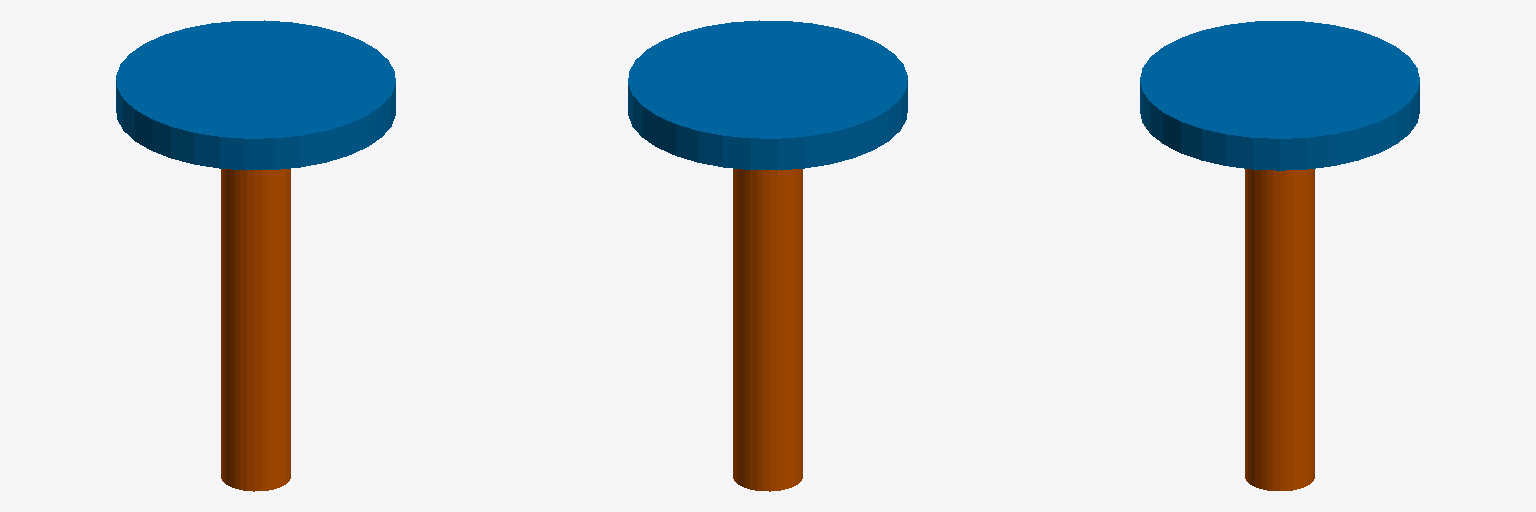
URDF robot description (sketch_follower_2d_2dof):
<?xml version="1.0" ?>
<!-- =================================================================================== -->
<!-- |    This document was autogenerated by xacro from [local-path]/catkin_ws/src/sketch-follower_ros/sketch_follower_moveit/robot_description/urdf/2d_2dof.xacro | -->
<!-- |    EDITING THIS FILE BY HAND IS NOT RECOMMENDED                                 | -->
<!-- =================================================================================== -->
<robot name="sketch_follower_2d_2dof">
    <material name="blue">
        <color rgba="0 0.5 1 1" />
    </material>
    <material name="green">
        <color rgba="0 1 0.5 1" />
    </material>
    <material name="red">
        <color rgba="1 0.5 0.5 1" />
    </material>
    <material name="purple">
        <color rgba="0.8 0 1 1" />
    </material>
    <gazebo>
        <plugin filename="libgazebo_ros_control.so" name="gazebo_ros_control">
            <robotNamespace>/</robotNamespace>
        </plugin>
    </gazebo>
    <link name="world" />
    <link name="base_link">
        <inertial>
            <origin rpy="0.0 0.0 0.0" xyz="0 0 0.4" />
            <mass value="1.2" />
            <inertia ixx="0.12025" ixy="0.0" ixz="0.0" iyy="0.12025" iyz="0.0" izz="0.11249999999999999" />
        </inertial>
        <visual>
            <origin rpy="0 0.0 0.0" xyz="0.0 0.0 0.0" />
            <geometry>
                <mesh filename="package://sketch_follower/robot_description/meshes/base_link.stl" scale="0.005 0.005 0.005" />
            </geometry>
            <material name="blue" />
        </visual>
        <collision>
            <origin rpy="0.0 0.0 0.0" xyz="0.0 0.0 0.0" />
            <geometry>
                <mesh filename="package://sketch_follower/robot_description/meshes/base_link.stl" scale="0.005 0.005 0.005" />
            </geometry>
        </collision>
    </link>
    <gazebo reference="base_link">
        <material>Gazebo/White</material>
    </gazebo>
    <joint name="base_joint" type="fixed">
        <origin rpy="0.0 0.0 0.0" xyz="0.0 0.0 0" />
        <parent link="world" />
        <child link="base_link" />
    </joint>
    <link name="link_0">
        <inertial>
            <origin rpy="0.0 0.0 0.0" xyz="0 0.75 0.05" />
            <mass value="0.3" />
            <inertia ixx="0.10024999999999999" ixy="0.0" ixz="0.0" iyy="0.0065" iyz="0.0" izz="0.10625" />
        </inertial>
        <visual>
            <origin rpy="0.0 0.0 0.0" xyz="0 0.0 0.0" />
            <geometry>
                <mesh filename="package://sketch_follower/robot_description/meshes/link.stl" scale="0.005 0.005 0.005" />
            </geometry>
            <material name="green" />
        </visual>
        <collision>
            <origin rpy="0.0 0.0 0.0" xyz="0.0 0.0 0.0" />
            <geometry>
                <mesh filename="package://sketch_follower/robot_description/meshes/link.stl" scale="0.005 0.005 0.005" />
            </geometry>
        </collision>
    </link>
    <gazebo reference="link_0">
        <material>Gazebo/Black</material>
    </gazebo>
    <joint name="link_0_joint" type="continuous">
        <origin rpy="0.0 0.0 0.0" xyz="0 0.0 0.55" />
        <parent link="base_link" />
        <child link="link_0" />
        <axis xyz="0.0 0.0 1.0" />
        <dynamics damping="2.0" friction="2.0" />
    </joint>
    <transmission name="link_0_joint_transmission">
        <type>transmission_interface/SimpleTransmission</type>
        <joint name="link_0_joint">
            <hardwareInterface>hardware_interface/EffortJointInterface</hardwareInterface>
        </joint>
        <actuator name="link_0_joint_actuator">
            <hardwareInterface>hardware_interface/EffortJointInterface</hardwareInterface>
            <mechanicalReduction>1</mechanicalReduction>
        </actuator>
    </transmission>
    <link name="link_1">
        <inertial>
            <origin rpy="0.0 0.0 0.0" xyz="0 0.75 0.05" />
            <mass value="0.3" />
            <inertia ixx="0.10024999999999999" ixy="0.0" ixz="0.0" iyy="0.0065" iyz="0.0" izz="0.10625" />
        </inertial>
        <visual>
            <origin rpy="0.0 0.0 0.0" xyz="0 0.0 0.0" />
            <geometry>
                <mesh filename="package://sketch_follower/robot_description/meshes/link.stl" scale="0.005 0.005 0.005" />
            </geometry>
            <material name="red" />
        </visual>
        <collision>
            <origin rpy="0.0 0.0 0.0" xyz="0.0 0.0 0.0" />
            <geometry>
                <mesh filename="package://sketch_follower/robot_description/meshes/link.stl" scale="0.005 0.005 0.005" />
            </geometry>
        </collision>
    </link>
    <gazebo reference="link_1">
        <material>Gazebo/White</material>
    </gazebo>
    <joint name="link_1_joint" type="continuous">
        <origin rpy="0.0 0.0 0.0" xyz="0 1.51 0.1" />
        <parent link="link_0" />
        <child link="link_1" />
        <axis xyz="0.0 0.0 1.0" />
        <dynamics damping="2.0" friction="2.0" />
    </joint>
    <transmission name="link_1_joint_transmission">
        <type>transmission_interface/SimpleTransmission</type>
        <joint name="link_1_joint">
            <hardwareInterface>hardware_interface/EffortJointInterface</hardwareInterface>
        </joint>
        <actuator name="link_1_joint_actuator">
            <hardwareInterface>hardware_interface/EffortJointInterface</hardwareInterface>
            <mechanicalReduction>1</mechanicalReduction>
        </actuator>
    </transmission>
    <link name="sketch_follower">
        <visual>
            <origin rpy="0.0 0.0 0.0" xyz="0.0 0.0 0.0" />
            <geometry>
                <cylinder length="0.05" radius="0.2" />
                <material name="purple" />
            </geometry>
        </visual>
        <collision>
            <origin rpy="0.0 0.0 0.0" xyz="0.0 0.0 0.0" />
            <geometry>
                <cylinder length="0.05" radius="0.2" />
            </geometry>
        </collision>
        <inertial>
            <origin rpy="0.0 0.0 0.0" xyz="0.0 0.0 0.0" />
            <mass value="0.2" />
            <inertia ixx="0.0020416667" ixy="0.0" ixz="0.0" iyy="0.0020416667" iyz="0.0" izz="0.004" />
        </inertial>
    </link>
    <gazebo reference="sketch_follower">
        <material>Gazebo/Black</material>
    </gazebo>
    <joint name="sketch_follower_joint" type="continuous">
        <parent link="link_1" />
        <child link="sketch_follower" />
        <origin rpy="0.0 0.0 0.0" xyz="0.0 1.5 0" />
        <axis xyz="0.0 0.0 1.0" />
        <dynamics damping="3.0" friction="3.0" />
    </joint>
    <transmission name="sketch_follower_joint_transmission">
        <type>transmission_interface/SimpleTransmission</type>
        <joint name="sketch_follower_joint">
            <hardwareInterface>hardware_interface/EffortJointInterface</hardwareInterface>
        </joint>
        <actuator name="sketch_follower_joint_actuator">
            <hardwareInterface>hardware_interface/EffortJointInterface</hardwareInterface>
            <mechanicalReduction>1</mechanicalReduction>
        </actuator>
    </transmission>
    <link name="pen">
        <visual>
            <origin rpy="0.0 0.0 0.0" xyz="0.0 0.0 0.0" />
            <geometry>
                <cylinder length="0.6" radius="0.05" />
                <material name="purple" />
            </geometry>
        </visual>
        <collision>
            <geometry>
                <cylinder length="0.6" radius="0.05" />
            </geometry>
        </collision>
        <inertial>
            <mass value="0.1" />
            <origin xyz="0 0 0" rpy="0 0 0" />
            <inertia ixx="0.03" iyy="0.03" izz="0.03" ixy="0.0" ixz="0.0" iyz="0.0" />
        </inertial>
    </link>
    <gazebo reference="pen">
        <material>Gazebo/Black</material>
    </gazebo>
    <joint name="pen_joint" type="fixed">
        <parent link="sketch_follower" />
        <child link="pen" />
        <origin rpy="0.0 0.0 0.0" xyz="0.0 0 -0.3" />
    </joint>
</robot>

--- Render facts (derived) ---
3 views of the same robot in one strip: view 1: azimuth 30°, elevation 25°; view 2: azimuth 150°, elevation 25°; view 3: azimuth 270°, elevation 25° (orthographic).
Model sketch_follower_2d_2dof with 6 links and 5 joints (3 continuous, 2 fixed), rooted at world, posed every joint at zero.
Visible links, largest first — view 1: sketch_follower, pen; view 2: sketch_follower, pen; view 3: sketch_follower, pen.
Link boxes in pixels (x1=…): sketch_follower: x1=116, y1=20, x2=395, y2=170; pen: x1=221, y1=169, x2=290, y2=491; sketch_follower: x1=628, y1=20, x2=907, y2=170; pen: x1=733, y1=169, x2=802, y2=491; sketch_follower: x1=1140, y1=21, x2=1419, y2=170; pen: x1=1245, y1=169, x2=1314, y2=490.
Size in the robot's own frame: 0.4 by 0.4 by 0.625 metres.
Meshes: 2 distinct files referenced, 0 mesh visuals loaded (none loaded); not drawn: 3 (reference not matched to a file when rendering).